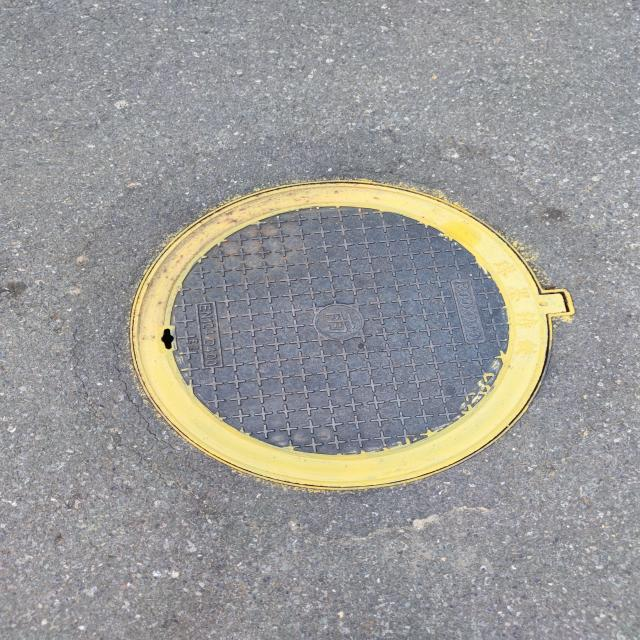Good: (125, 172, 562, 494)
